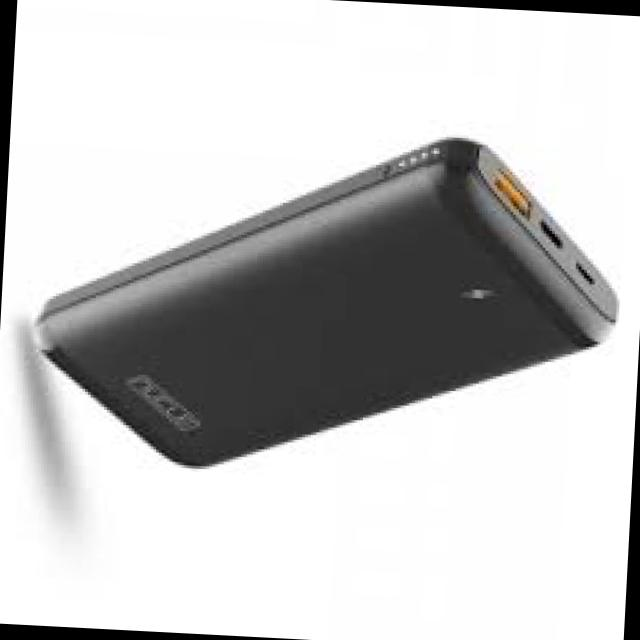portable-charger: (19, 109, 630, 490)
